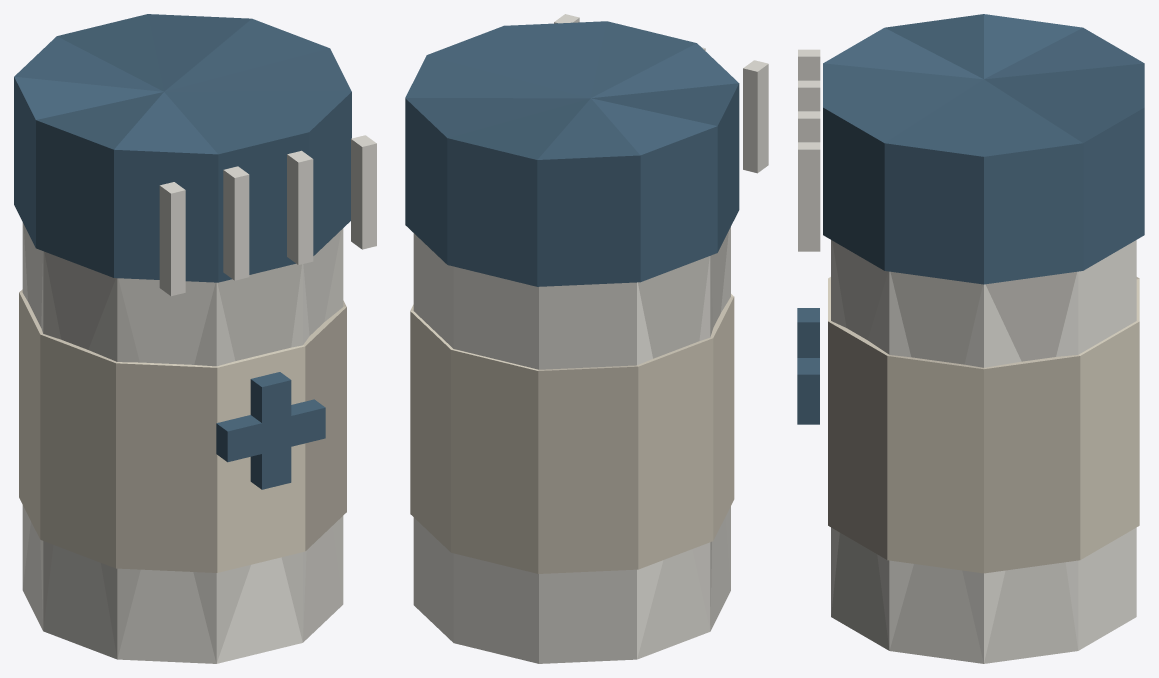
Rendered from water_tablets_hlornye_idle.glb.
3 views of the same model, side by side, from view 1: azimuth 30°, elevation 25°; view 2: azimuth 150°, elevation 25°; view 3: azimuth 270°, elevation 25° (orthographic).
Parts seen in each view (by area): view 1: water_tablets_hlornye_idle; view 2: water_tablets_hlornye_idle; view 3: water_tablets_hlornye_idle.
Boxes of the visible parts, x1,y1,x2,y2 form: water_tablets_hlornye_idle: (14, 14, 376, 663); water_tablets_hlornye_idle: (405, 14, 768, 663); water_tablets_hlornye_idle: (797, 14, 1144, 663).
Bounding box in the file's own units: 0.06 × 0.1 × 0.0616.
Materials: 1 (1 with a texture image).
